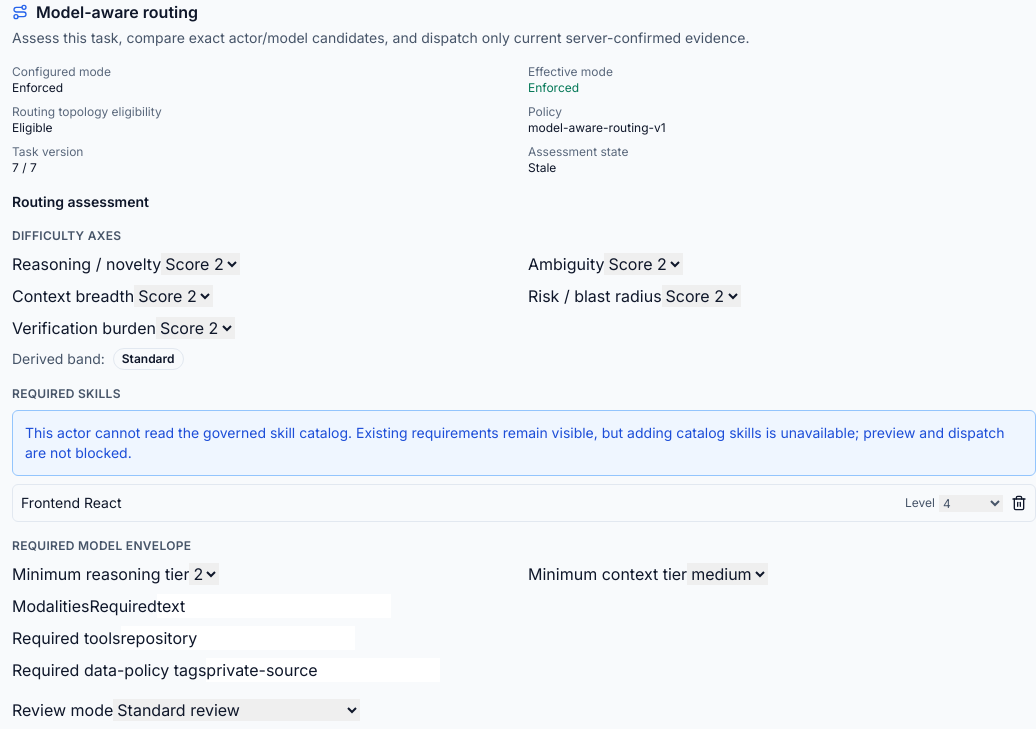
TaskRoutingPanel routing gates › enforces independent review when the risk axis is high
Check: the dropdown labelled "Review mode" shows "Standard review", box [113,699,360,721]
Select "Score 3" in the dropdown labelled "Risk / blast radius": (701, 296) [662,285,741,307]
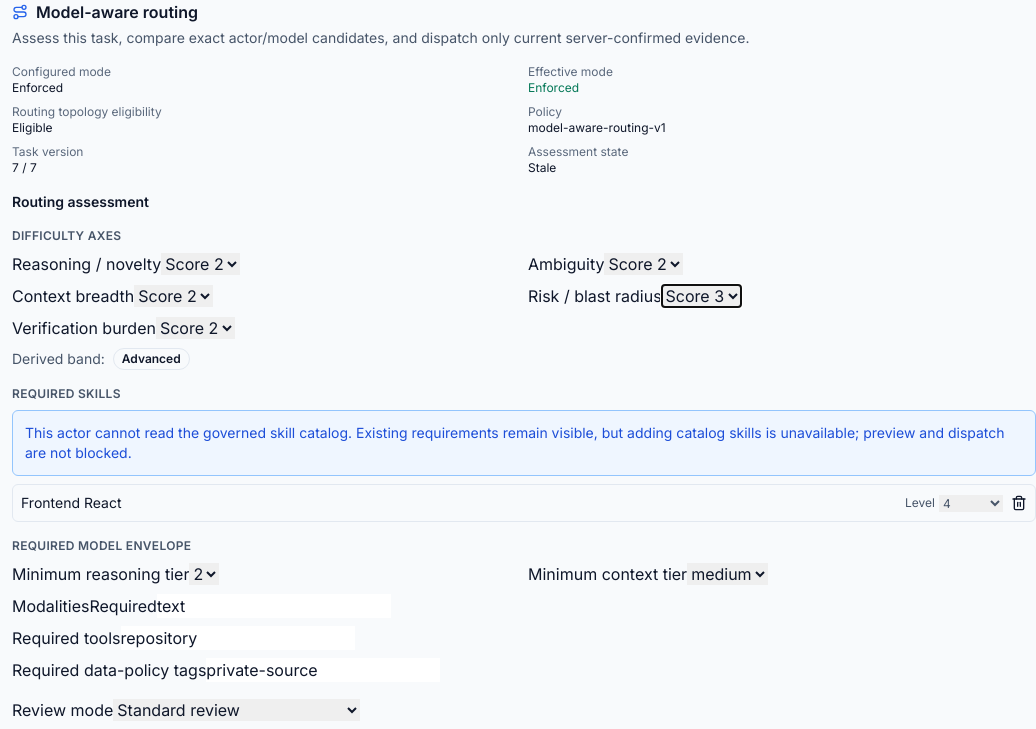
Select "Independent review" in the dropdown labelled "Review mode": (237, 710) [113,699,360,721]
(page scrolled)
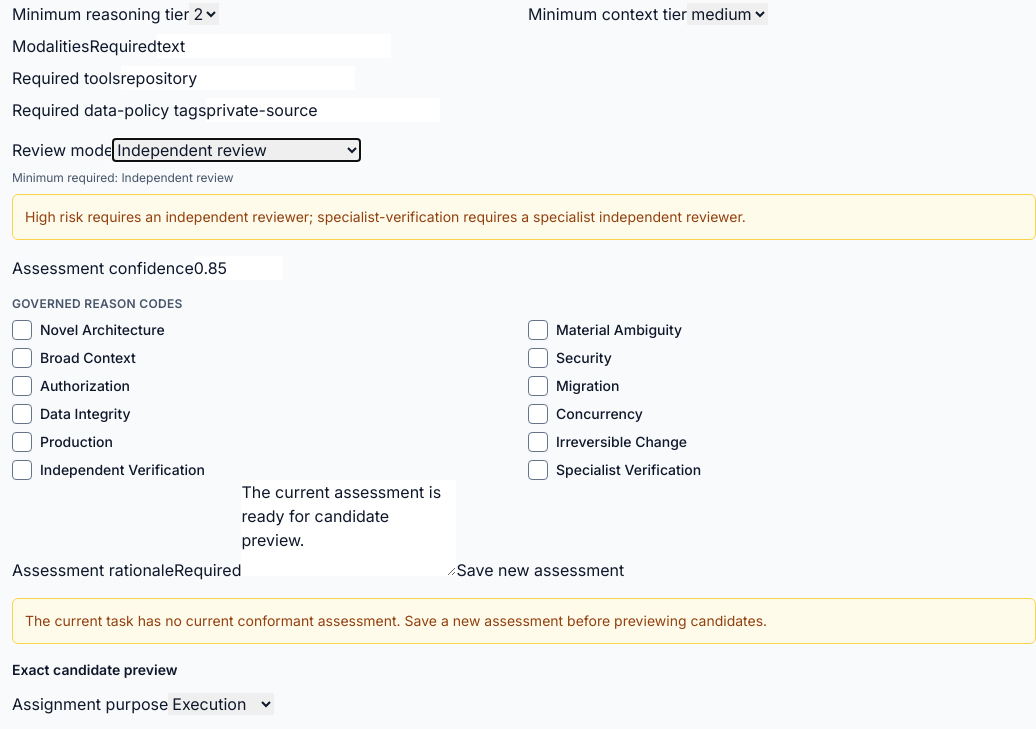
Check: the button "Save new assessment" is enabled, box [456,558,624,582]
